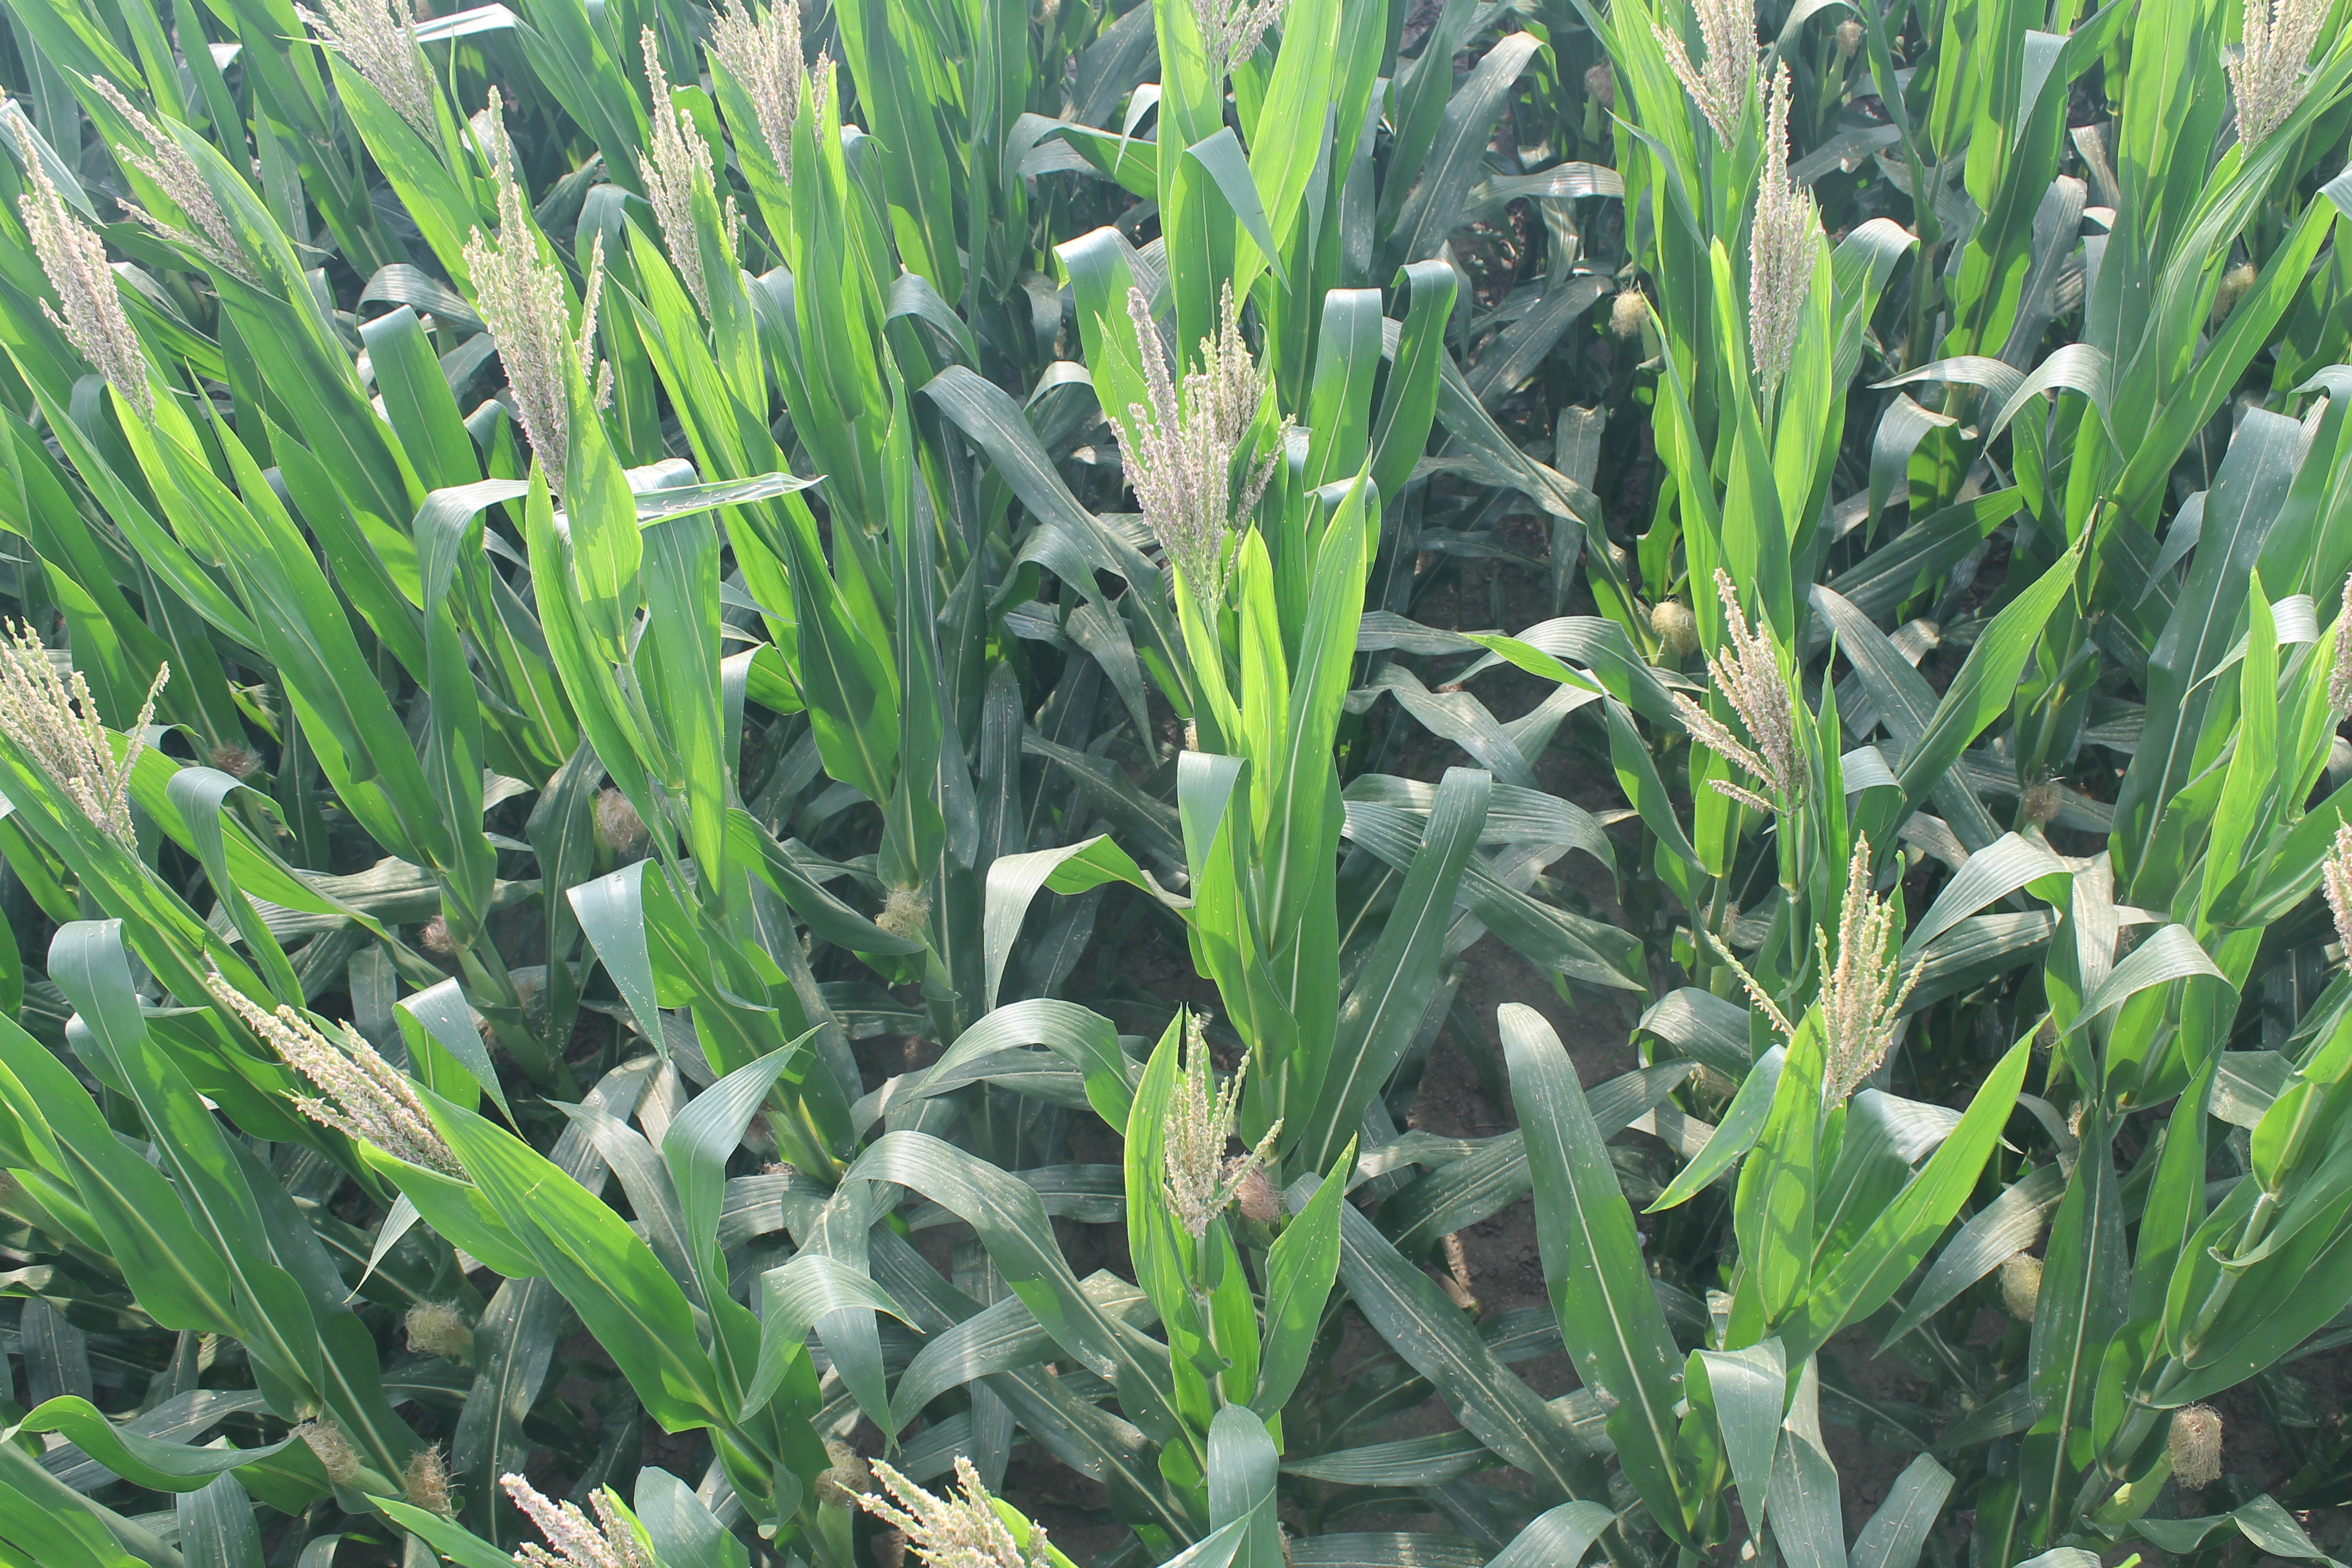Maize: (199, 962, 500, 1197), (1101, 275, 1295, 597), (1701, 878, 1939, 1113), (460, 105, 604, 450), (1108, 987, 1304, 1237), (0, 618, 199, 863), (1633, 581, 1823, 828), (16, 89, 128, 415), (826, 1431, 1085, 1568), (623, 33, 710, 355), (472, 1444, 679, 1568), (2205, 0, 2352, 161), (143, 101, 262, 271), (1760, 73, 1823, 362), (728, 0, 847, 136), (318, 0, 441, 124), (1172, 0, 1288, 112), (1673, 0, 1757, 140), (2312, 819, 2352, 999), (2308, 584, 2352, 724)
